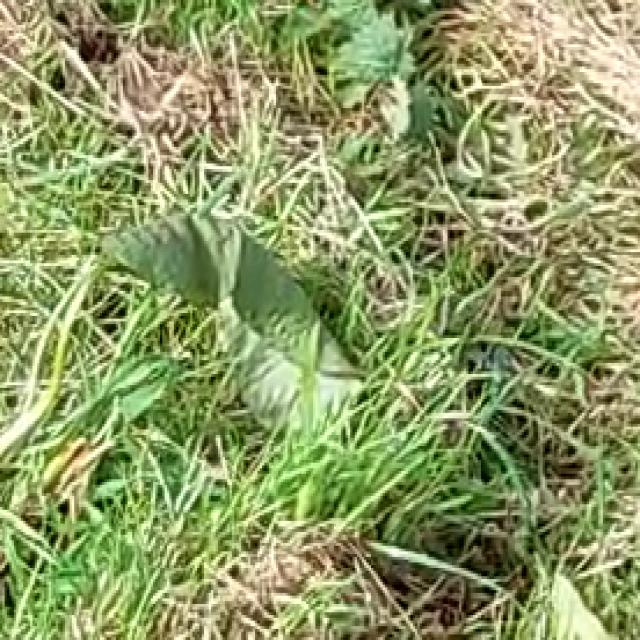organic waste: (78, 139, 484, 565)
